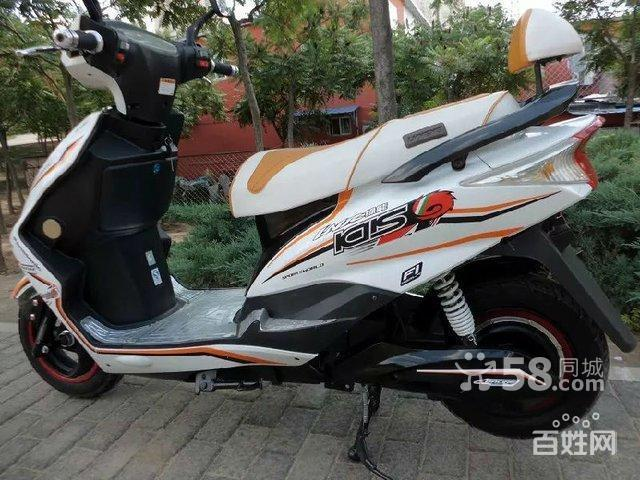电动车: (5, 10, 623, 449)
